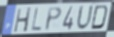4: (62, 5, 74, 32)
D: (90, 4, 109, 31)
H: (12, 7, 32, 33)
L: (30, 7, 43, 33)
P: (44, 6, 63, 32)
U: (76, 4, 95, 32)
